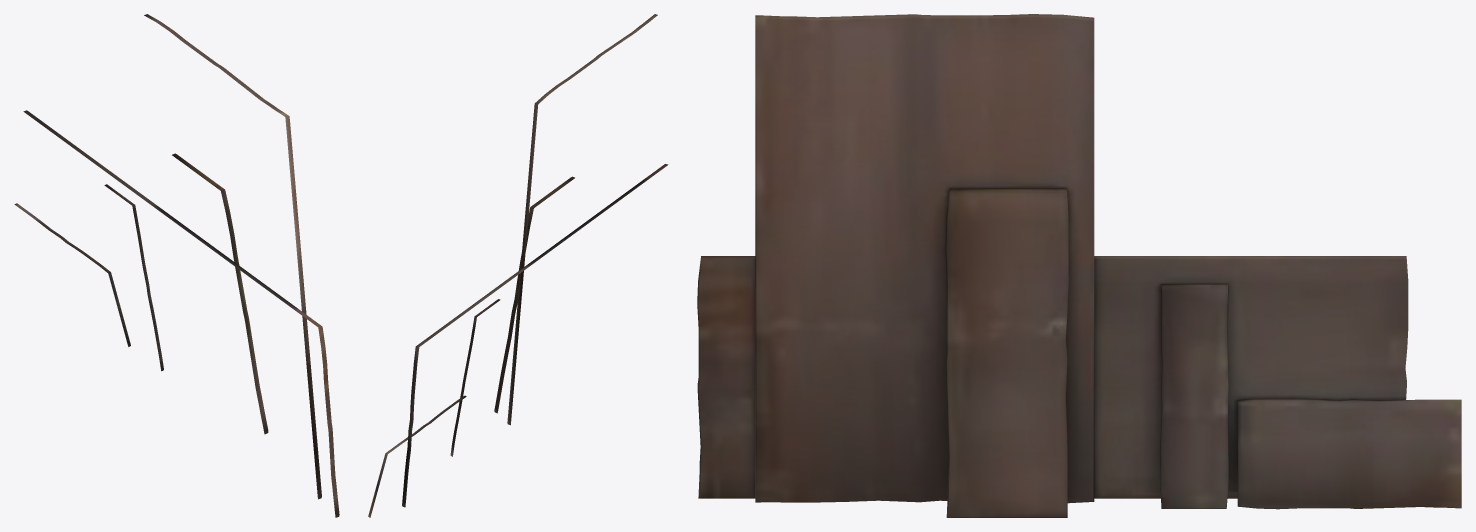
3 renders of one model, left to right at view 1: azimuth 30°, elevation 25°; view 2: azimuth 150°, elevation 25°; view 3: azimuth 270°, elevation 25°, orthographic. The views are drawn at different scales.
Parts seen in each view (by area): view 1: body0_model0_lod0_mesh0; view 2: body0_model0_lod0_mesh0; view 3: body0_model0_lod0_mesh0.
Boxes of the visible parts, <box> form: body0_model0_lod0_mesh0: <box>14,14,339,517</box>; body0_model0_lod0_mesh0: <box>368,14,668,517</box>; body0_model0_lod0_mesh0: <box>697,14,1461,517</box>.
Size of the model in its own units: 22.27 by 131 by 193.
Materials: 1 (1 with a texture image).
